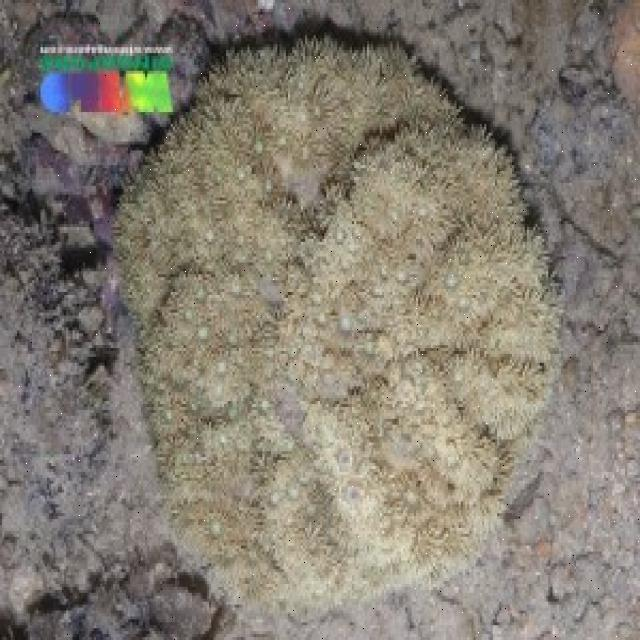Bleached: (112, 29, 556, 613)
